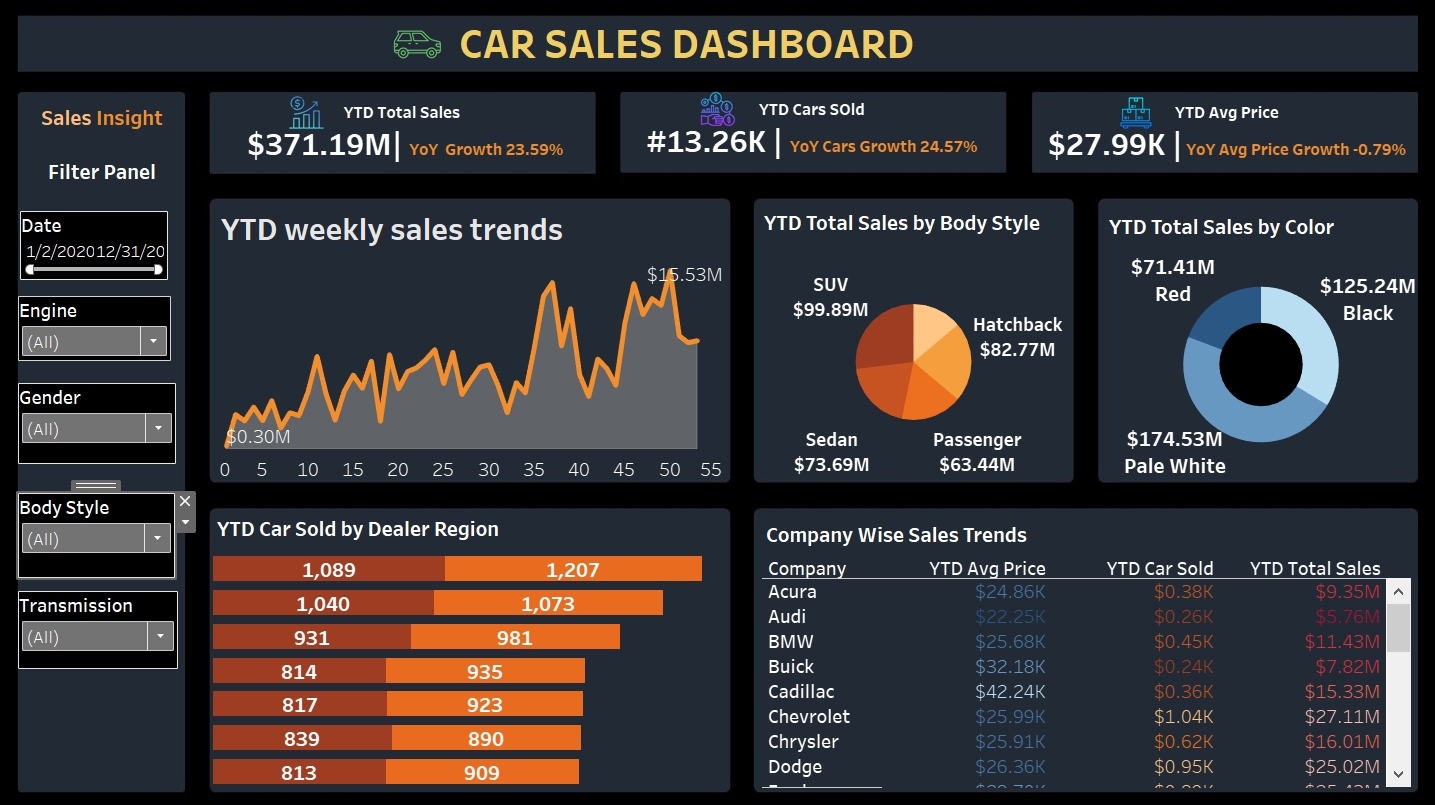

Layout of this report page (visuals, bound fields, positions):
{"tool":"tableau","page":{"name":"KPI's","canvas":[1000,1000],"units":"permille","ordinal":1},"visuals":[{"type":"image","param":"C:/Users/Lost Ever/Downloads/tableau project files and resources/Tableau Project","box":[5,9.6,990,980.8]},{"type":"text","box":[336,32.5,304.2,64.9]},{"type":"image","param":"C:/Users/Lost Ever/Downloads/tableau project files and resources/Tableau Project","box":[294.9,33.6,53.6,67.3]},{"type":"worksheet","title":"YTD Total Sales","mark":"Text","box":[185.2,123.8,235,97.4]},{"type":"image","param":"C:/Users/Lost Ever/Downloads/tableau project files and resources/Tableau Project","box":[488.8,123.8,43.6,42.1]},{"type":"image","param":"C:/Users/Lost Ever/Downloads/tableau project files and resources/Tableau Project","box":[231.3,126.2,28.1,45.7]},{"type":"worksheet","title":"YTD Car Sold","mark":"Text","box":[440.8,126.2,235.7,86.5]},{"type":"worksheet","title":"YTD Avg Price","mark":"Automatic","box":[698.9,126.2,236.9,92.5]},{"type":"image","param":"C:/Users/Lost Ever/Downloads/tableau project files and resources/Tableau Project","box":[750,129.8,39.9,39.7]},{"type":"text","box":[68.6,133.4,94.8,43.3]},{"type":"text","box":[68.6,198.3,94.8,43.3]},{"type":"worksheet","title":"YTD weekly sales trends","mark":"Line","rows":["Calculation_1221319957975191552","Calculation_1221319957975191552"],"cols":["Date"],"box":[187.7,258.4,316.1,334.1]},{"type":"worksheet","title":"YTD Total Sales by Body Style","mark":"Pie","box":[526.2,259.6,191.4,329.3]},{"type":"worksheet","title":"YTD Total Sales by Color","mark":"Pie","rows":["Calculation_542965264451305473","Calculation_542965264451305473"],"box":[741.3,264.4,194.5,325.7]},{"type":"filter","title":"YTD weekly sales trends","param":"[federated.0dmjn3l0b5wewa12lum5n0euj2nc].[none:Date:qk]","box":[68.6,268,92.3,82.9]},{"type":"filter","title":"YTD weekly sales trends","param":"[federated.0dmjn3l0b5wewa12lum5n0euj2nc].[none:Engine:nk]","box":[68.6,370.2,95.4,78.1]},{"type":"filter","title":"YTD weekly sales trends","param":"[federated.0dmjn3l0b5wewa12lum5n0euj2nc].[none:Gender:nk]","box":[67.3,474.8,98.5,97.4]},{"type":"filter","title":"YTD weekly sales trends","param":"[federated.0dmjn3l0b5wewa12lum5n0euj2nc].[none:Body Style:nk]","box":[65.5,607,97.9,102.2]},{"type":"worksheet","title":"YTD Car Sold by Dealer Region","mark":"Automatic","rows":["Dealer_Region"],"cols":["Calculation_1221319957982838787"],"box":[185.2,627.4,319.8,334.1]},{"type":"worksheet","title":"Company Wise Sales Trends","mark":"Automatic","rows":["Company"],"box":[527.4,634.6,405.2,326.9]},{"type":"filter","title":"YTD weekly sales trends","param":"[federated.0dmjn3l0b5wewa12lum5n0euj2nc].[none:Transmission:nk]","box":[63.6,724.8,99.8,93.8]}]}

Visuals, with their boxes on the dashboard's canvas, which has no fixed pixel size, in thousandths of its width and height (x1, y1, x2, y2). These are canvas units, not pixel positions in the 1435x805 screenshot, which may show the page scaled, cropped or inside an application window:
image: 5,10,995,990
text: 336,32,640,97
image: 295,34,348,101
"YTD Total Sales" worksheet (Text marks): 185,124,420,221
image: 489,124,532,166
image: 231,126,259,172
"YTD Car Sold" worksheet (Text marks): 441,126,676,213
"YTD Avg Price" worksheet: 699,126,936,219
image: 750,130,790,170
text: 69,133,163,177
text: 69,198,163,242
"YTD weekly sales trends" worksheet (Line marks): 188,258,504,592
"YTD Total Sales by Body Style" worksheet (Pie marks): 526,260,718,589
"YTD Total Sales by Color" worksheet (Pie marks): 741,264,936,590
"YTD weekly sales trends" filter: 69,268,161,351
"YTD weekly sales trends" filter: 69,370,164,448
"YTD weekly sales trends" filter: 67,475,166,572
"YTD weekly sales trends" filter: 66,607,163,709
"YTD Car Sold by Dealer Region" worksheet: 185,627,505,962
"Company Wise Sales Trends" worksheet: 527,635,933,962
"YTD weekly sales trends" filter: 64,725,163,819
